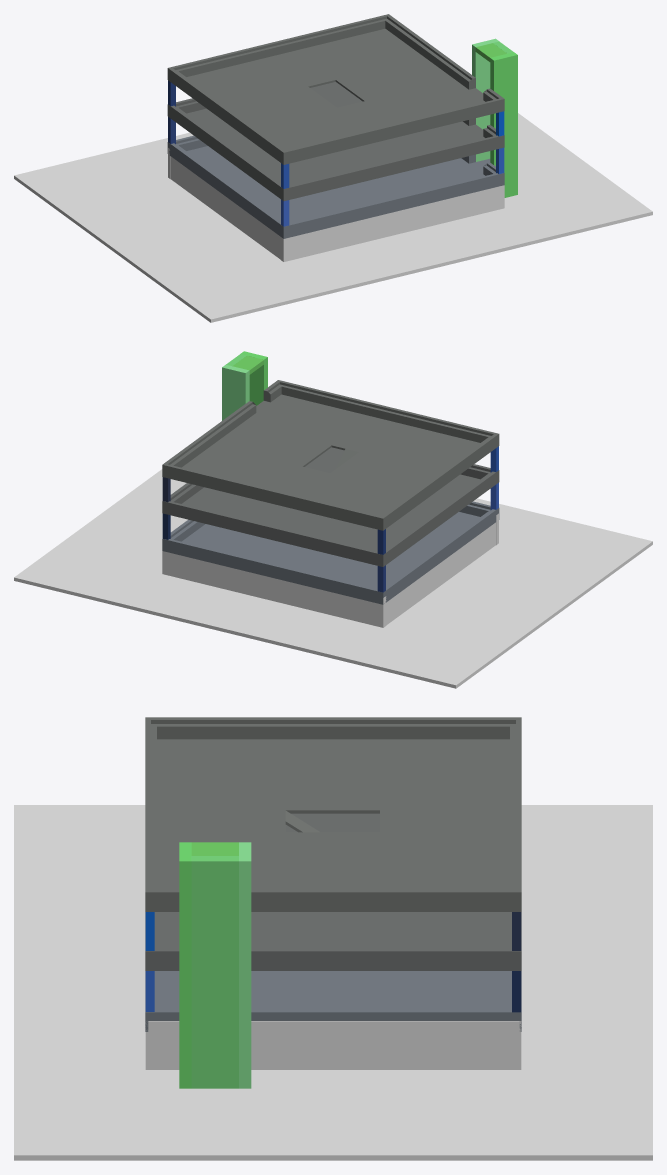
File: CarPark.gltf
3 views of the same model, one above another, from view 1: azimuth 30°, elevation 25°; view 2: azimuth 150°, elevation 25°; view 3: azimuth 270°, elevation 25° (orthographic). The views are drawn at different scales.
Visible parts, largest first — view 1: Cube.009, Cube.014, Cube.008, Cube.019, Cube.006, Cube.021, Cube.005, Cube.020; view 2: Cube.009, Cube.014, Cube.008, Cube.019, Cube.004, Cube.005, Cube.020, Cube.021; view 3: Cube.009, Cube.014, Cube.008, Cube.007, Cube.019, Cube.022, Cube.020, Cube.021, Cube.023.
Part boxes in pixels (box(x1,y1,x2,y2)): Cube.009: box(14, 113, 652, 322); Cube.014: box(167, 14, 504, 164); Cube.008: box(167, 82, 504, 201); Cube.019: box(167, 135, 504, 238); Cube.006: box(281, 185, 504, 261); Cube.021: box(490, 52, 517, 197); Cube.005: box(171, 156, 280, 259); Cube.020: box(472, 38, 499, 161); Cube.009: box(14, 469, 652, 688); Cube.014: box(162, 380, 499, 530); Cube.008: box(162, 447, 499, 566); Cube.019: box(162, 501, 499, 604); Cube.004: box(162, 551, 386, 627); Cube.005: box(386, 522, 495, 625); Cube.020: box(222, 364, 249, 420); Cube.021: box(240, 351, 267, 405); Cube.009: box(14, 805, 652, 1160); Cube.014: box(145, 717, 521, 911); Cube.008: box(145, 813, 521, 970); Cube.007: box(148, 1021, 519, 1069); Cube.019: box(145, 971, 521, 1031); Cube.022: box(191, 856, 238, 1088); Cube.020: box(239, 842, 251, 1088); Cube.021: box(179, 842, 191, 1088); Cube.023: box(191, 842, 238, 855).
Bounding box in the file's own units: 135 × 46.38 × 104.
